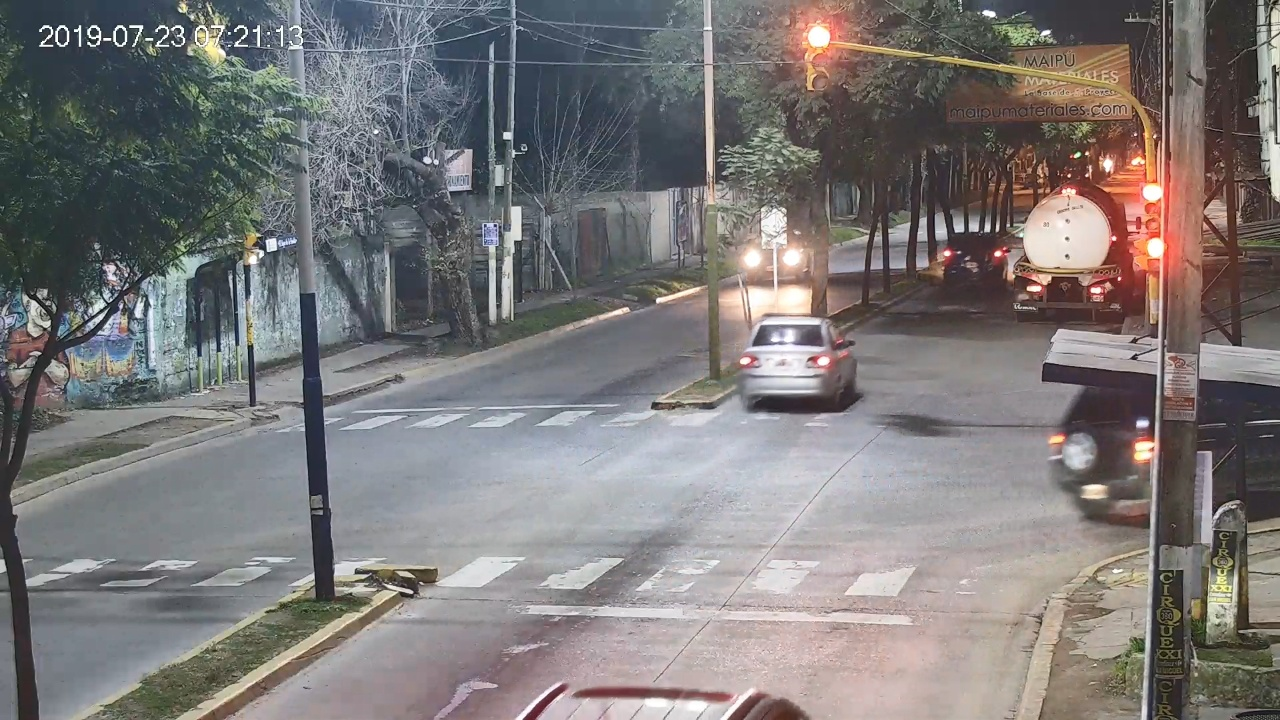car: (738, 315, 857, 410)
traffic light: (805, 23, 831, 90), (1143, 182, 1161, 232)
